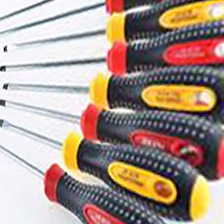Screwdriver: (2, 1, 224, 224)
